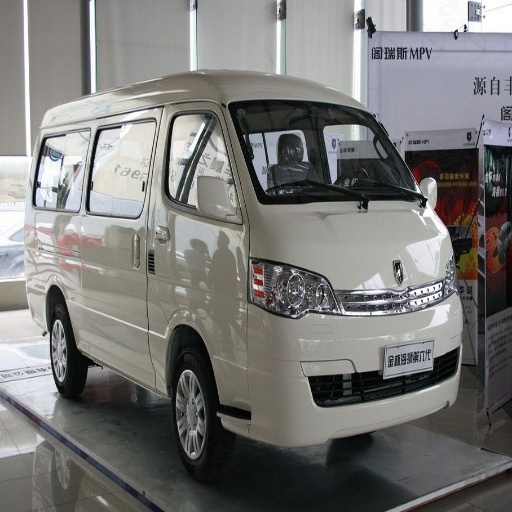front_bumper: (217, 294, 459, 445)
front_right_door: (193, 108, 246, 263), (106, 282, 151, 373)
front_right_light: (253, 264, 342, 318)
hood: (279, 201, 445, 293)
trunk: (157, 280, 227, 362)
